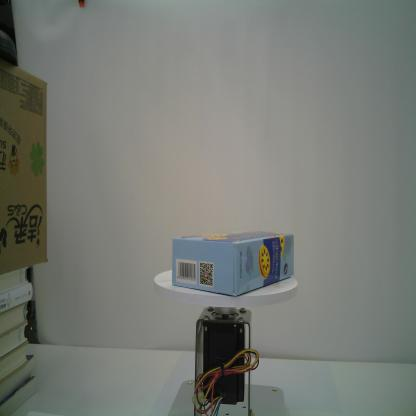Dessert: (171, 228, 296, 298)
